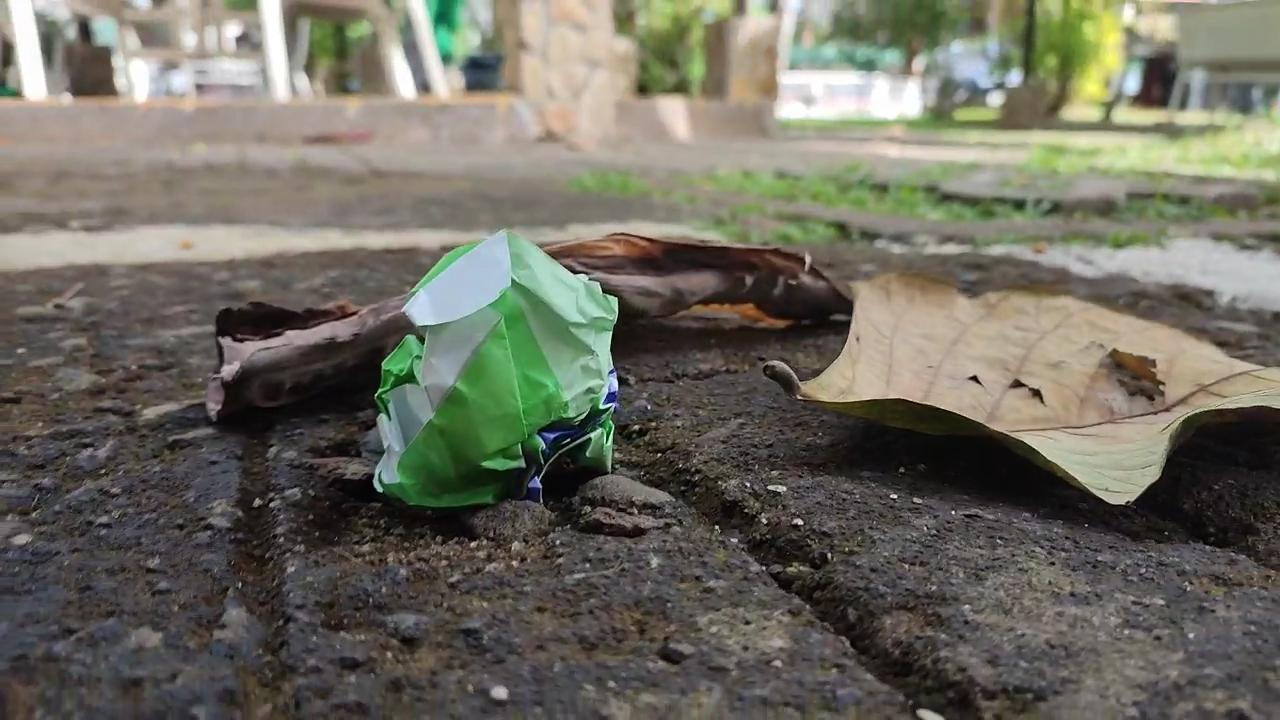Paper: (351, 207, 640, 530)
